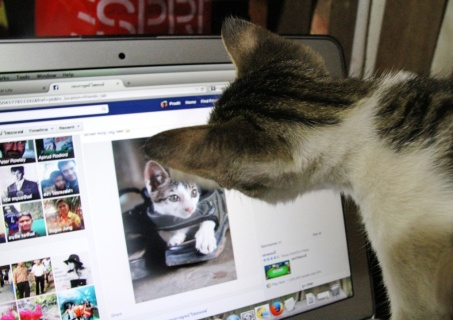Cat: (140, 15, 452, 319), (143, 158, 215, 255)
